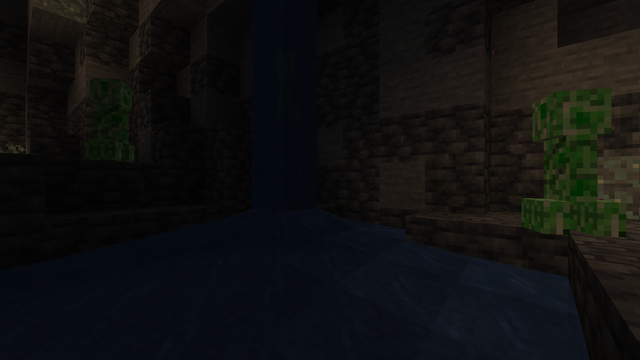creepers: (535, 76, 610, 238), (90, 70, 133, 162), (268, 45, 302, 125)
